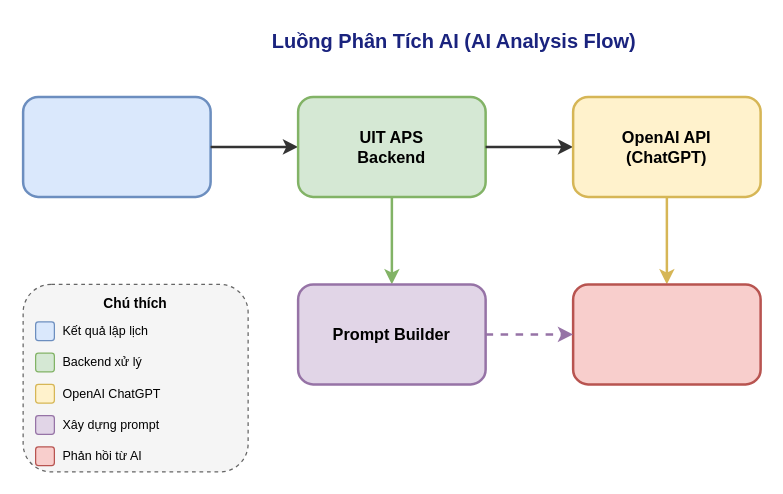
Some shapes in this 783 by 494 pixel diagram are drawn without their labels. The shapes that lost their labels are listed below. From the top down, each one's centre as x and y in pixels, then its label:
At point (116, 146): "Scheduling Results".
At point (666, 333): "AI Response".
